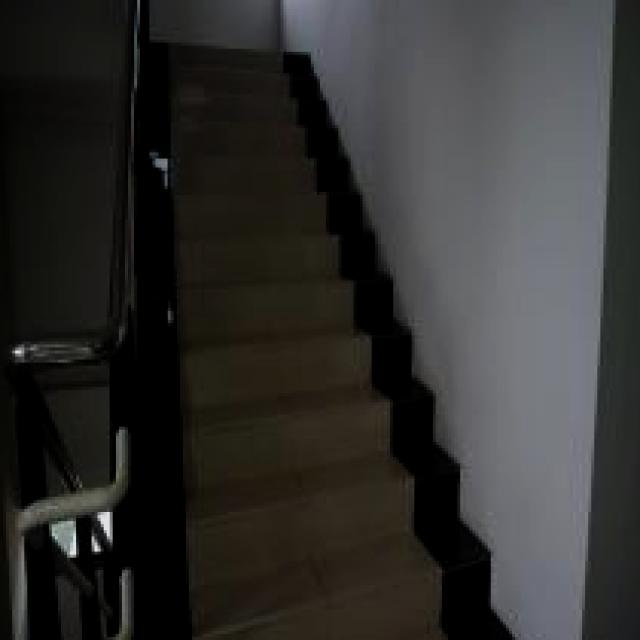upstair: (141, 90, 324, 480)
